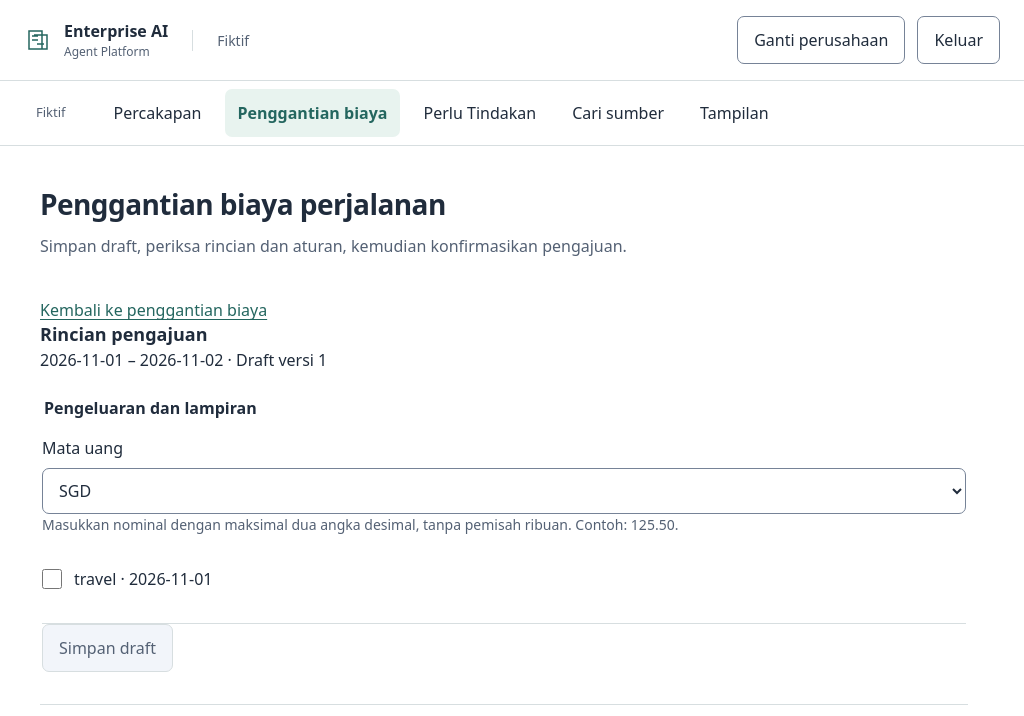
Test: save CAS conflict blocks edits and cannot silently substitute a newer version
The image size is (1024, 716).
Expected: the dropdown labelled "Mata uang" is shown, [42,468,966,514]
What coordinates should you click on to do the following:
click the checkbox labelled "travel · 2026-11-01"
I would click on:
 (52, 579)
Its box is [42,569,62,589].
(page scrolled)
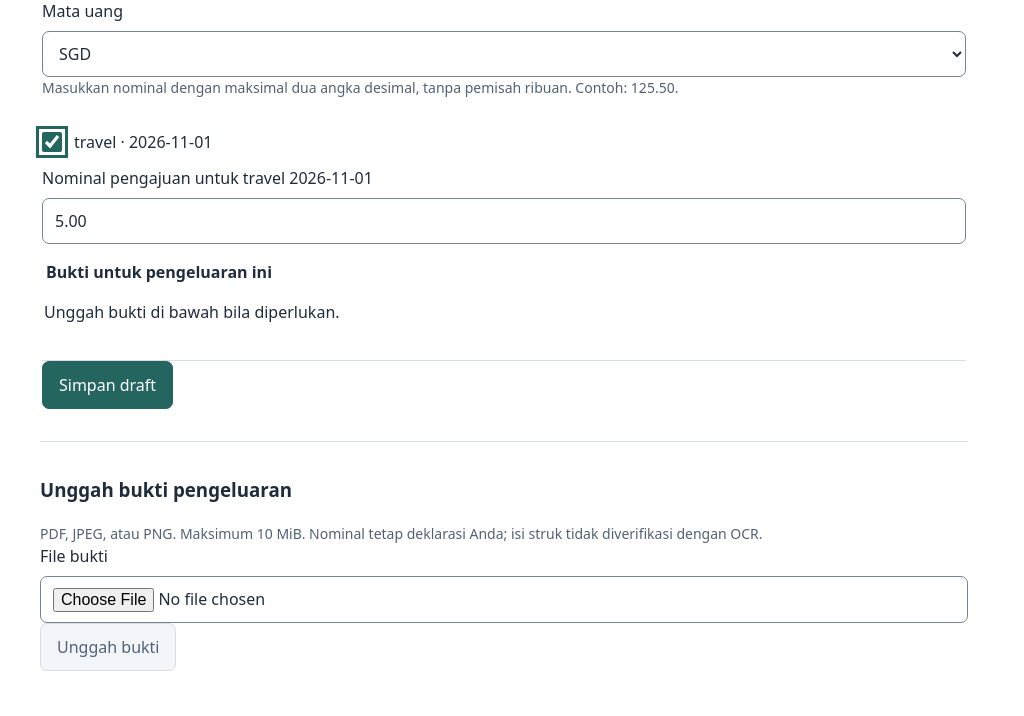
What coordinates should you click on to do the following:
click the button "Simpan draft"
I would click on:
 (108, 385)
Its box is [42,361,173,409].
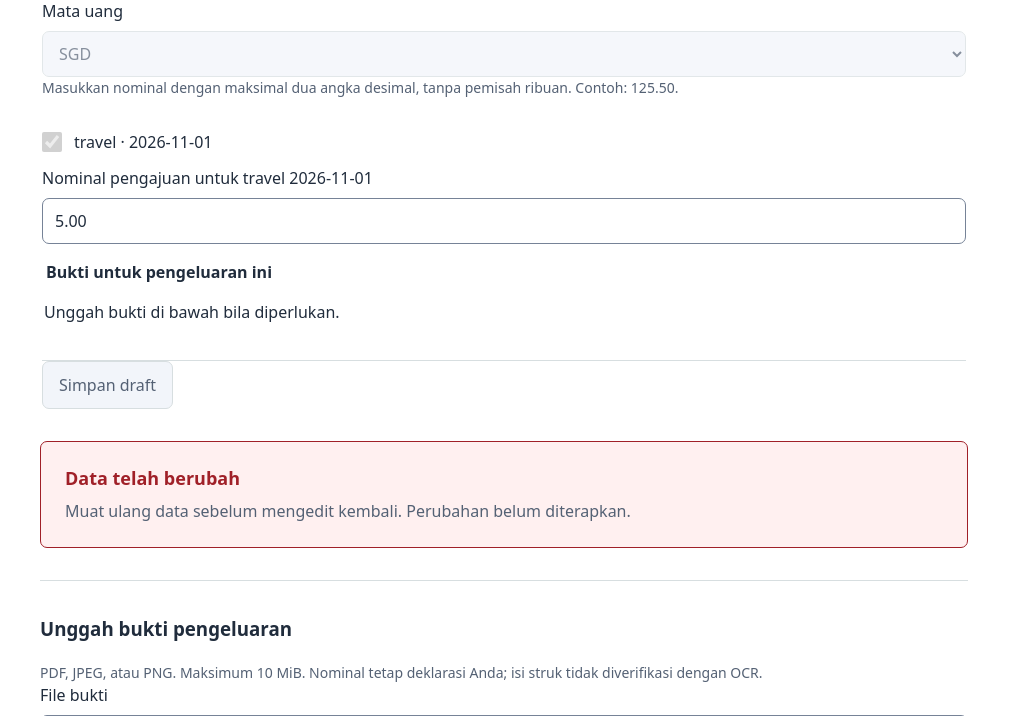
Result: the heading "Data telah berubah" is shown at [65,466,240,490]
